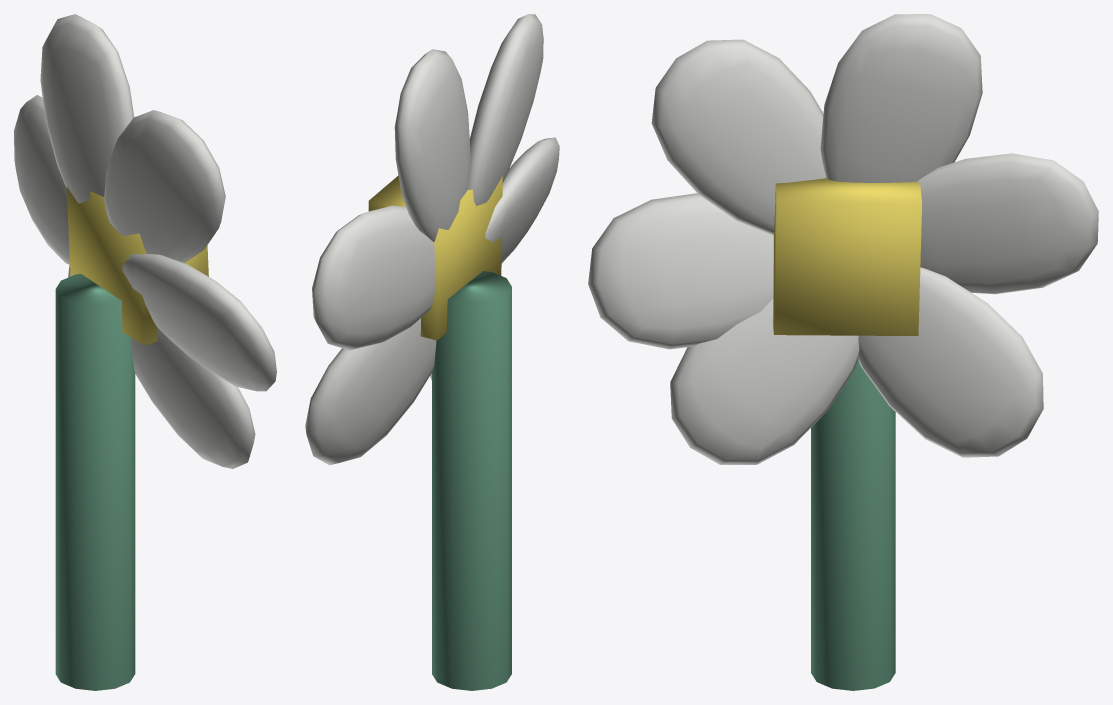
The model's file is fleur-blanche.gltf.
3 views of the same model, side by side, from view 1: azimuth 30°, elevation 25°; view 2: azimuth 150°, elevation 25°; view 3: azimuth 270°, elevation 25° (orthographic). The views are drawn at different scales.
Parts seen in each view (by area): view 1: fleur-blanche-pétales, fleur-blanche..tige, fleur-blanche.centre; view 2: fleur-blanche-pétales, fleur-blanche..tige, fleur-blanche.centre; view 3: fleur-blanche-pétales, fleur-blanche..tige, fleur-blanche.centre.
Boxes of the visible parts, left/top/right/bottom form: fleur-blanche-pétales: left=14, top=14, right=276, bottom=468; fleur-blanche..tige: left=55, top=274, right=135, bottom=690; fleur-blanche.centre: left=66, top=186, right=208, bottom=345; fleur-blanche-pétales: left=305, top=14, right=559, bottom=465; fleur-blanche..tige: left=432, top=271, right=511, bottom=690; fleur-blanche.centre: left=368, top=175, right=502, bottom=340; fleur-blanche-pétales: left=588, top=14, right=1098, bottom=464; fleur-blanche..tige: left=811, top=360, right=895, bottom=690; fleur-blanche.centre: left=772, top=178, right=921, bottom=335.
Bounding box in the file's own units: 0.1497 × 0.7741 × 0.5356.
